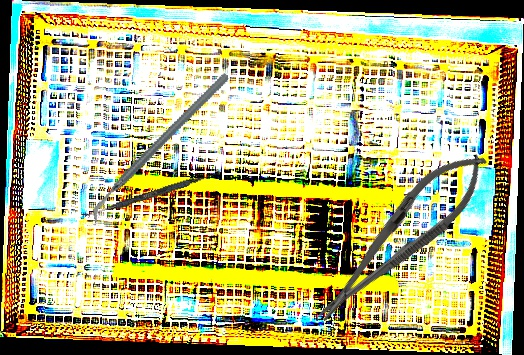Chopper: (57, 70, 262, 227)
Needle Holder: (300, 135, 502, 338)
Spatula Surgical: (80, 167, 220, 223)
